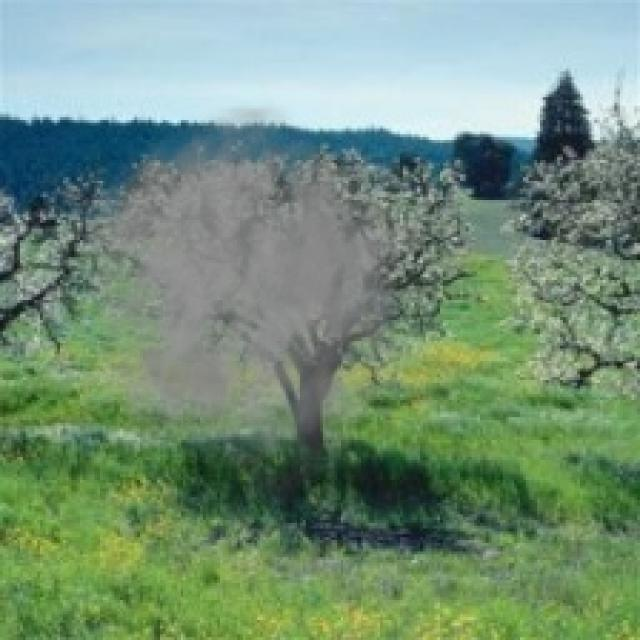smoke: (74, 103, 434, 503)
